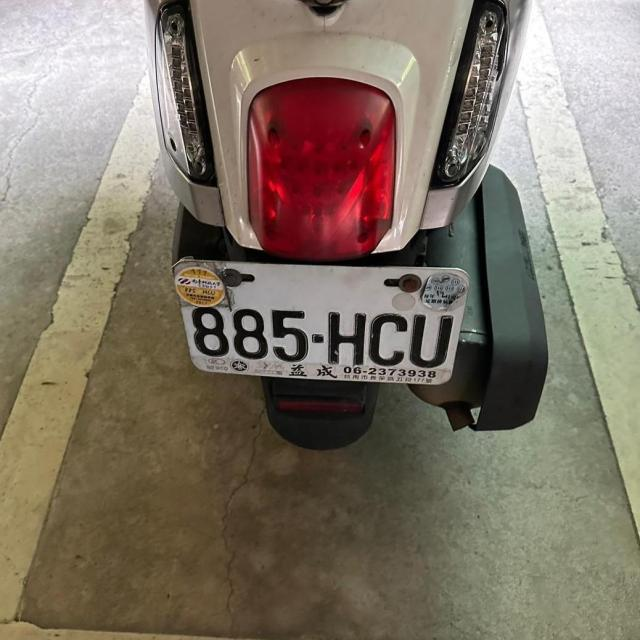W: (171, 245, 472, 393)
